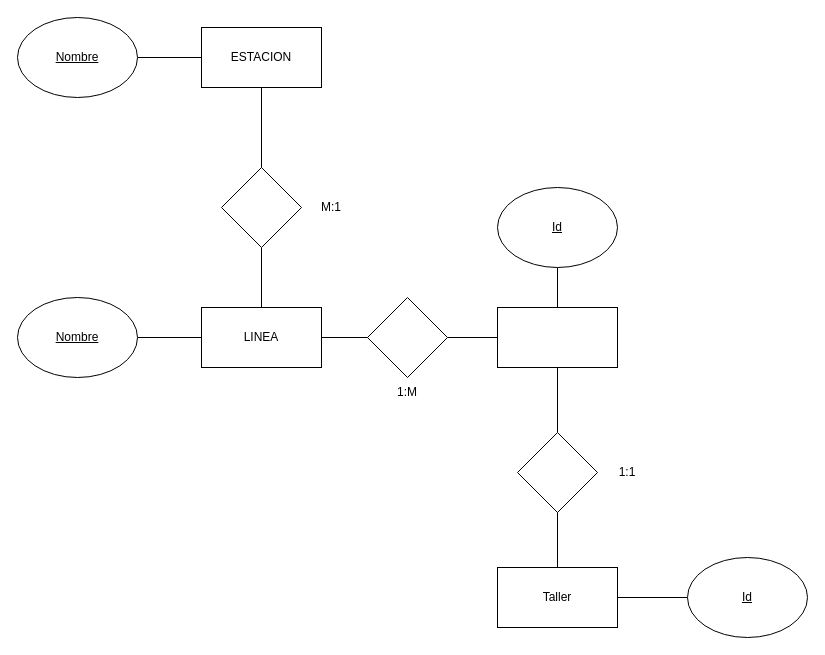
This 825x655 diagram has some shape labels left out. The shapes that lost their labels are listed below. From the top down, each one's centre as x and y in pixels, then its label:
pixel 261 207: Tener
pixel 407 337: Asignar
pixel 557 337: TREN
pixel 557 472: Reparar
